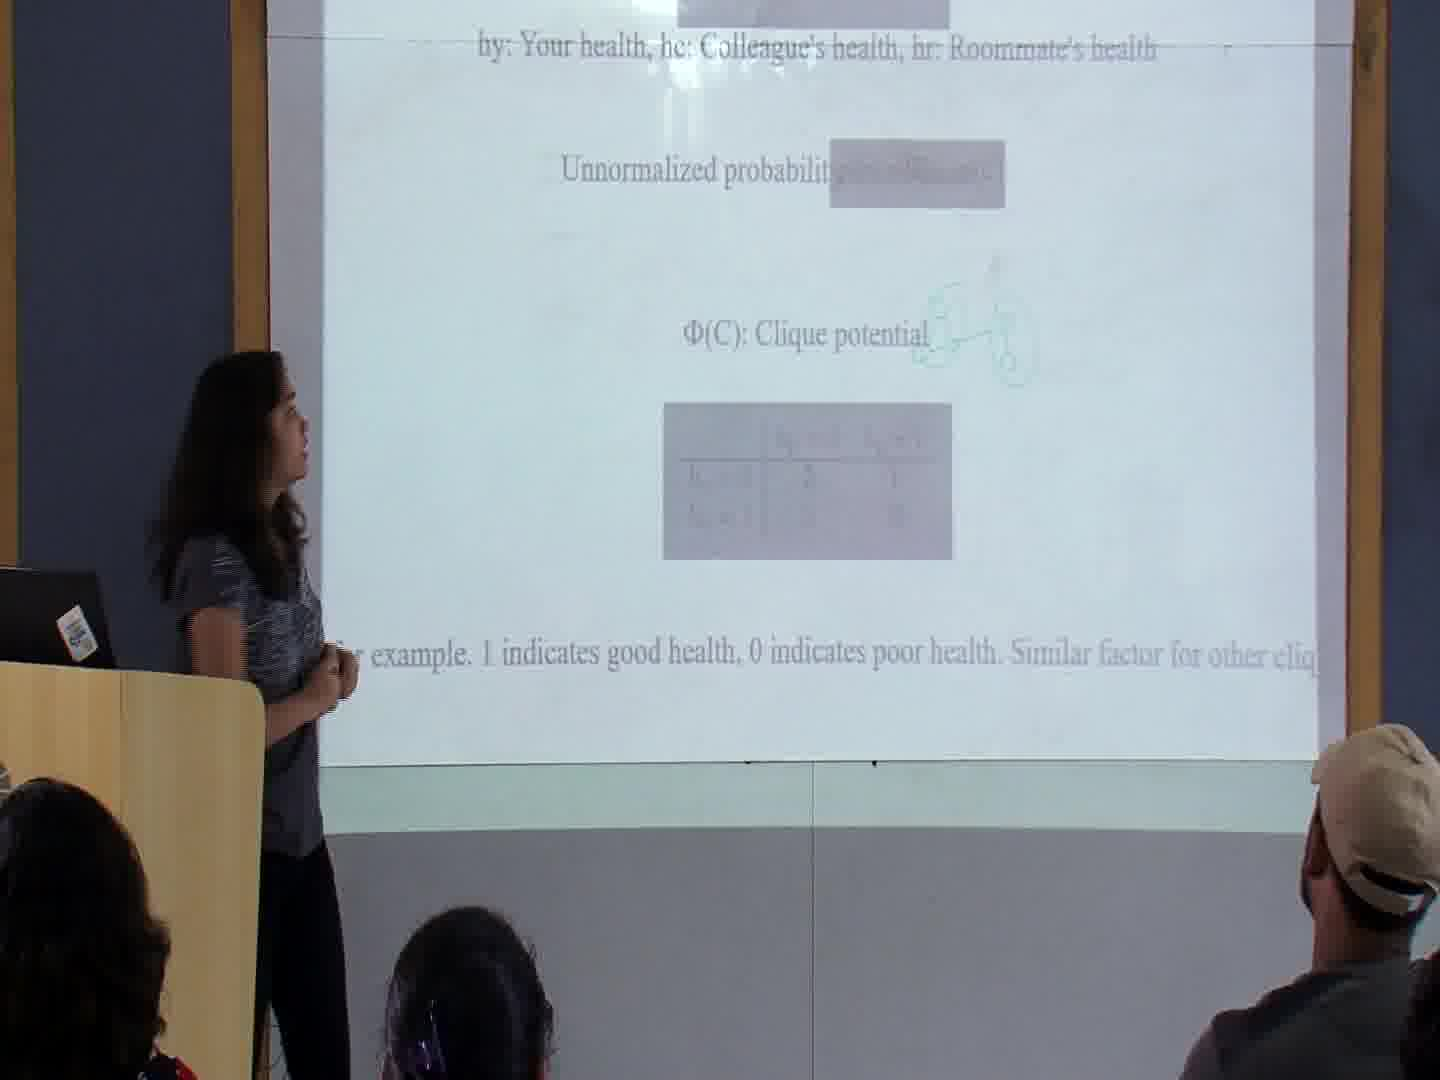slide: (322, 3, 1320, 832)
